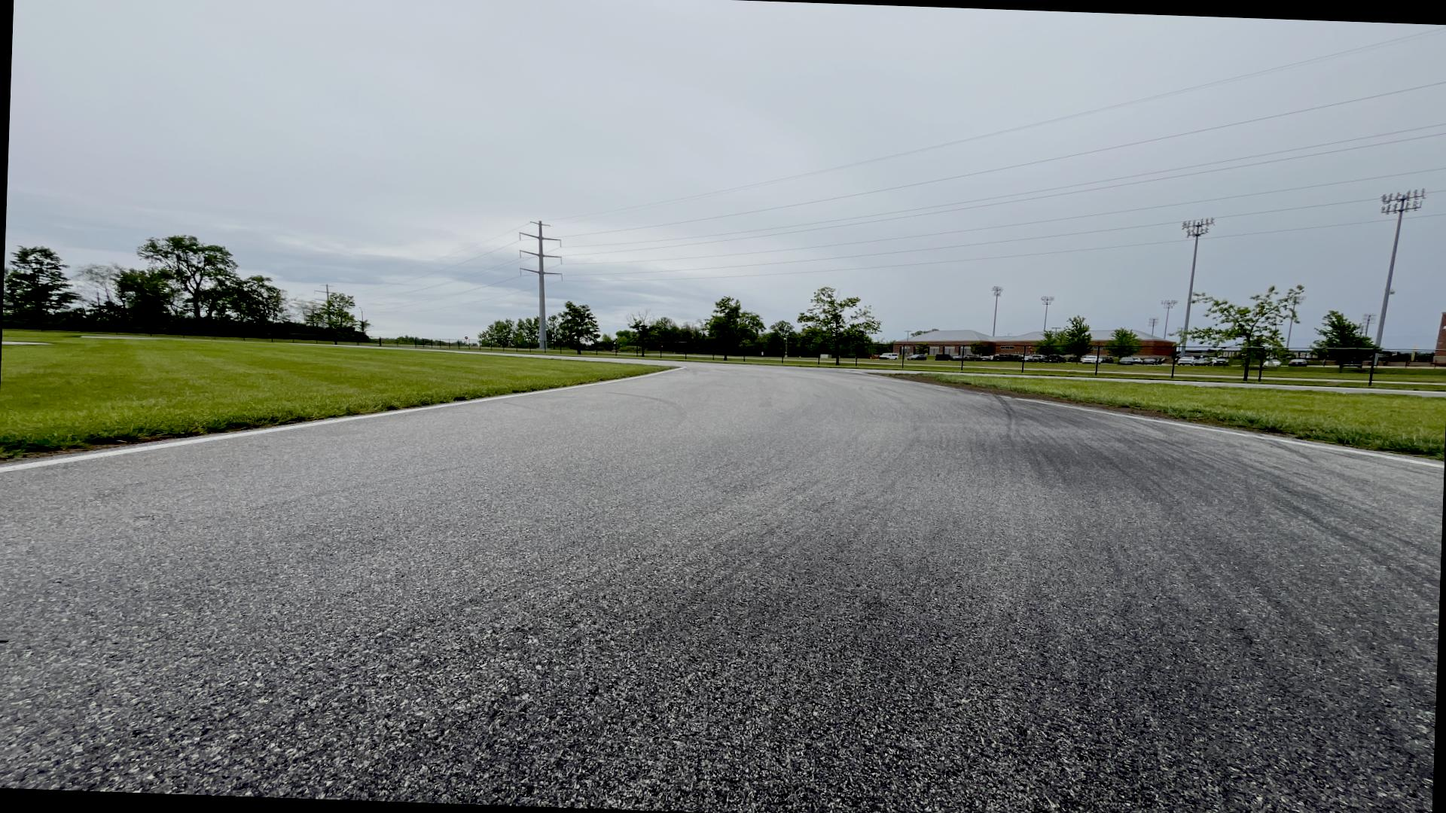white-line: (0, 367, 687, 473), (892, 379, 1444, 468)
